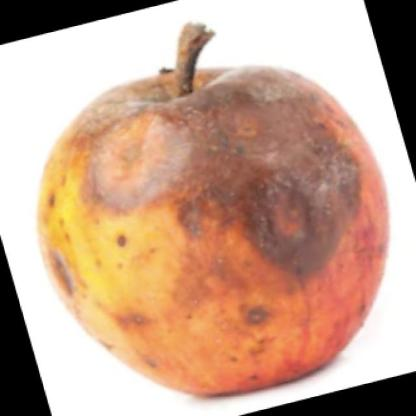defect: (95, 97, 369, 288), (112, 295, 286, 389), (37, 204, 89, 322)
